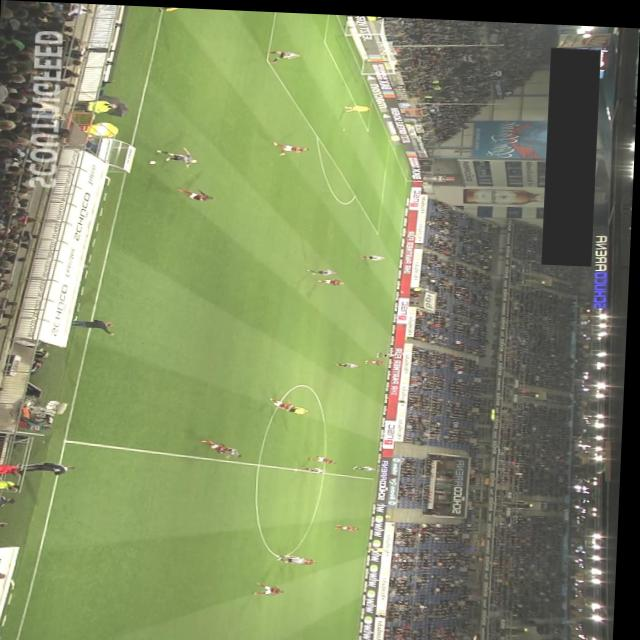goalkeeper: (344, 101, 372, 110)
player: (156, 147, 199, 168), (273, 139, 310, 154), (176, 186, 215, 200), (203, 438, 236, 453), (267, 48, 300, 62), (220, 440, 247, 457), (258, 579, 290, 593), (289, 552, 323, 562), (271, 395, 299, 407), (280, 552, 312, 562), (311, 453, 340, 461), (308, 265, 340, 272), (287, 404, 312, 412), (319, 275, 347, 282), (361, 251, 388, 258), (304, 463, 330, 470), (338, 521, 364, 528), (337, 359, 363, 365), (356, 461, 380, 467), (378, 348, 398, 354), (367, 356, 387, 361)
referee: (370, 543, 393, 549)
